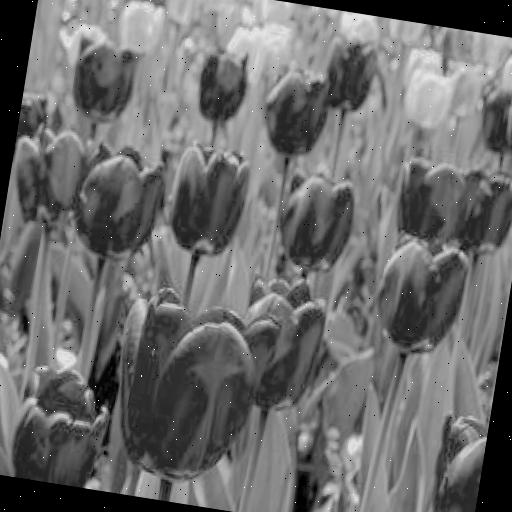tulip: (101, 280, 275, 492), (232, 273, 330, 424), (6, 360, 118, 490), (372, 230, 472, 356), (72, 134, 170, 260), (158, 136, 256, 260), (7, 117, 98, 224), (388, 146, 477, 254), (273, 170, 358, 272), (256, 64, 334, 162), (63, 33, 139, 121), (450, 162, 512, 255), (474, 80, 512, 152)
